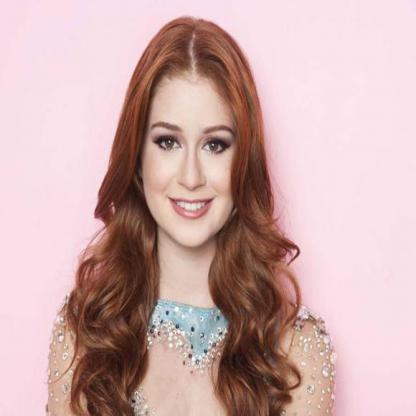long-hair: (61, 244, 316, 312)
